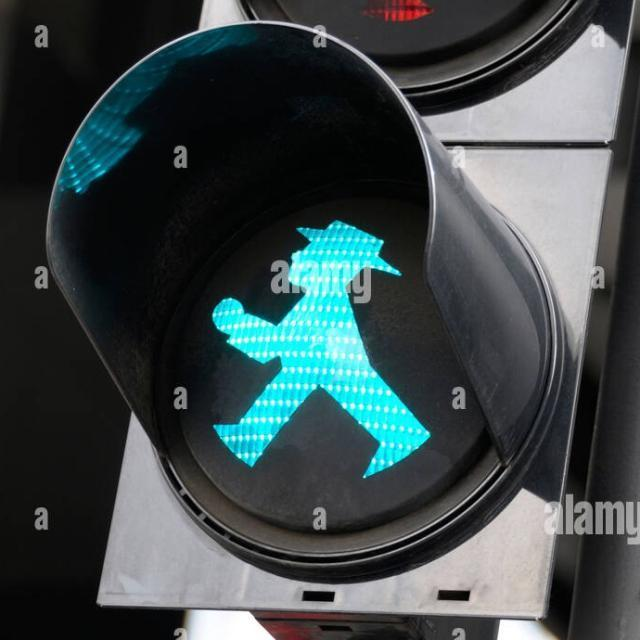geen-crossing: (189, 187, 425, 490)
